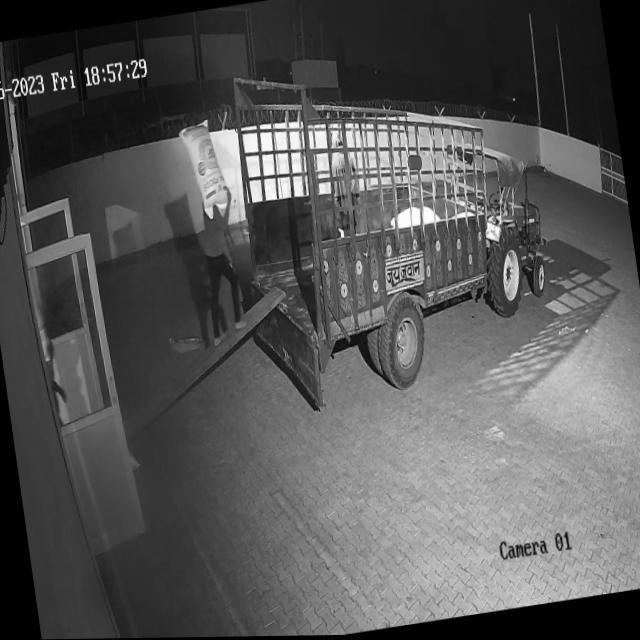sack: (177, 118, 232, 224)
